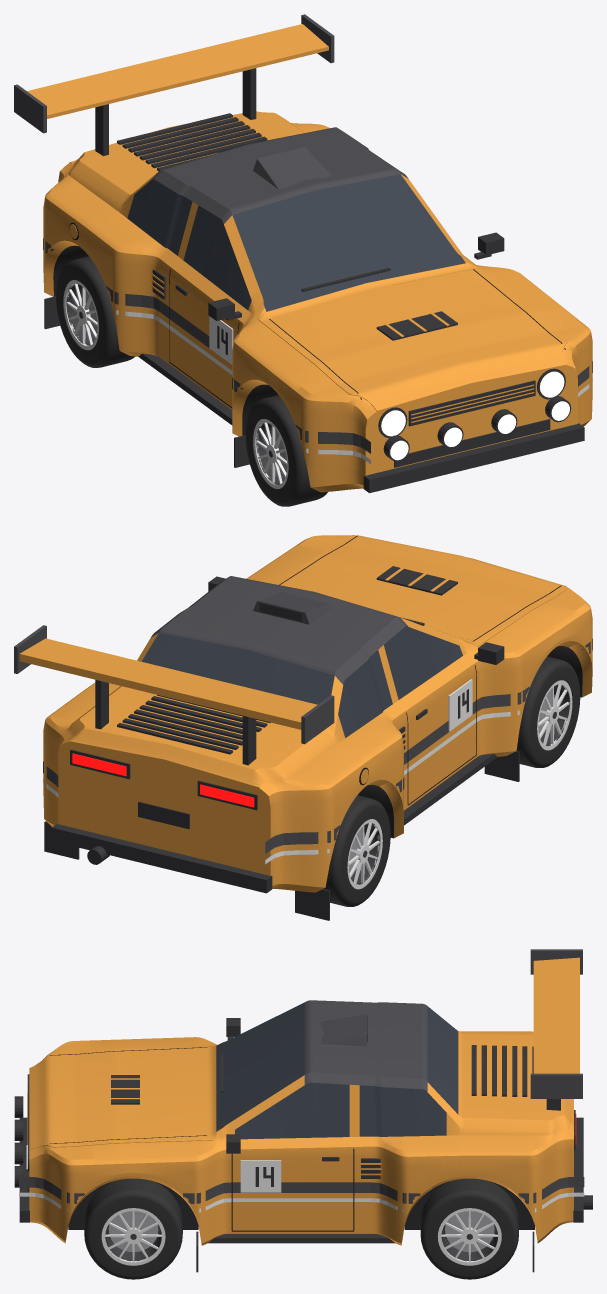
File: midship-group-b.glb
3 views of the same model, one above another, from view 1: azimuth 30°, elevation 25°; view 2: azimuth 150°, elevation 25°; view 3: azimuth 270°, elevation 25° (orthographic). The views are drawn at different scales.
Visible parts, largest first — view 1: Body, Wheel_FR, Wheel_RR; view 2: Body, Wheel_RR, Wheel_FR; view 3: Body, Wheel_RL, Wheel_FL.
Boxes of the visible parts, x1,y1,x2,y2 form: Body: (14,14,592,493); Wheel_FR: (245,395,327,506); Wheel_RR: (55,256,134,367); Body: (14,535,592,920); Wheel_RR: (323,795,390,906); Wheel_FR: (516,656,580,767); Body: (14,949,592,1272); Wheel_RL: (420,1178,518,1279); Wheel_FL: (84,1178,182,1279).
Size of the model in its own units: 2.06 by 1.58 by 4.
